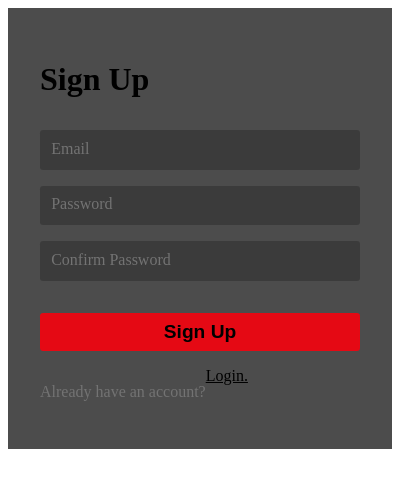
it: SignUp Test › check password not match error work
Expected: the number of headings "Sign Up" is 2, [40,61,149,97]; [40,313,360,351]
In the field with test id "email": x=202, y=150 [51,142,353,159], type "prathapskt@gmail.com"
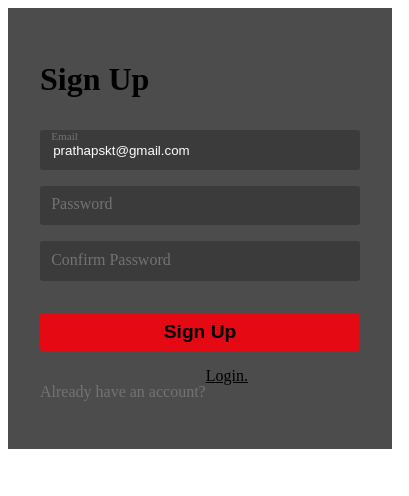
In the password field with test id "password": x=202, y=206 [51,197,353,214], type "prathap27"
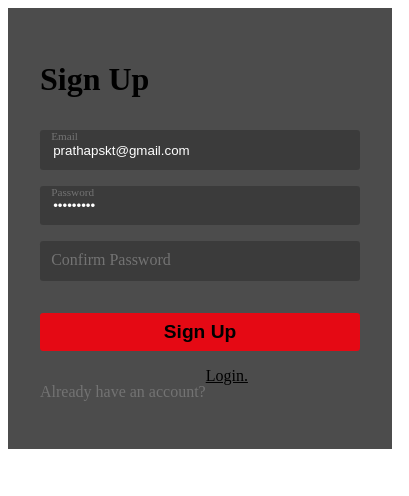
In the password field with test id "confirmPassword": x=202, y=261 [51,252,353,269], type "prathapskt"
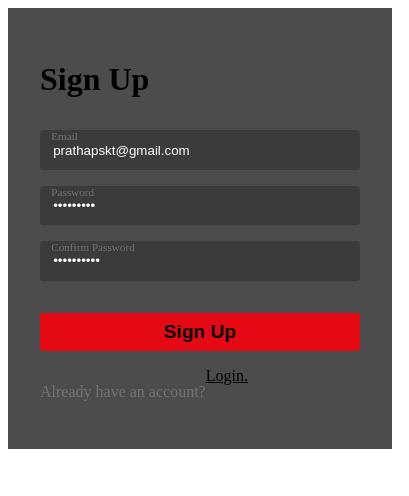
Click the button with test id "sign-up": x=200, y=332 [40,313,360,351]
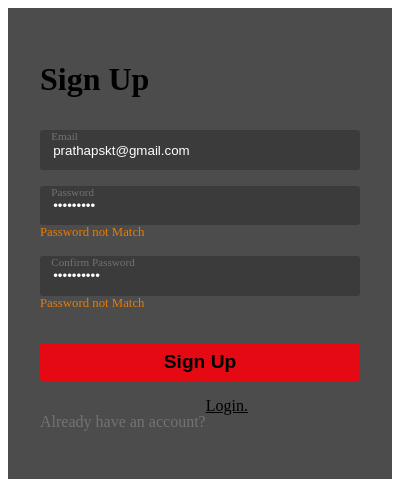
Result: the text "Password not Match" is shown 2 times at [40,225,144,239]; [40,296,144,310]
